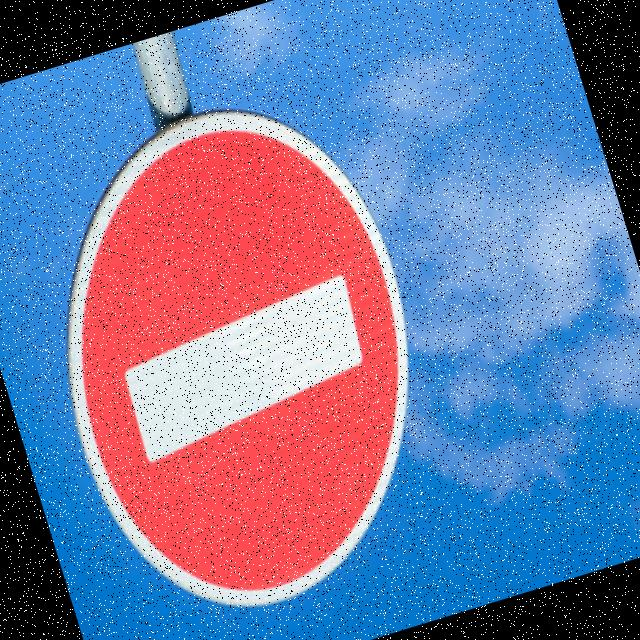do_not_enter: (0, 67, 489, 640)
